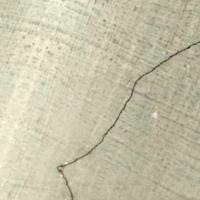crack: (49, 37, 199, 199)
